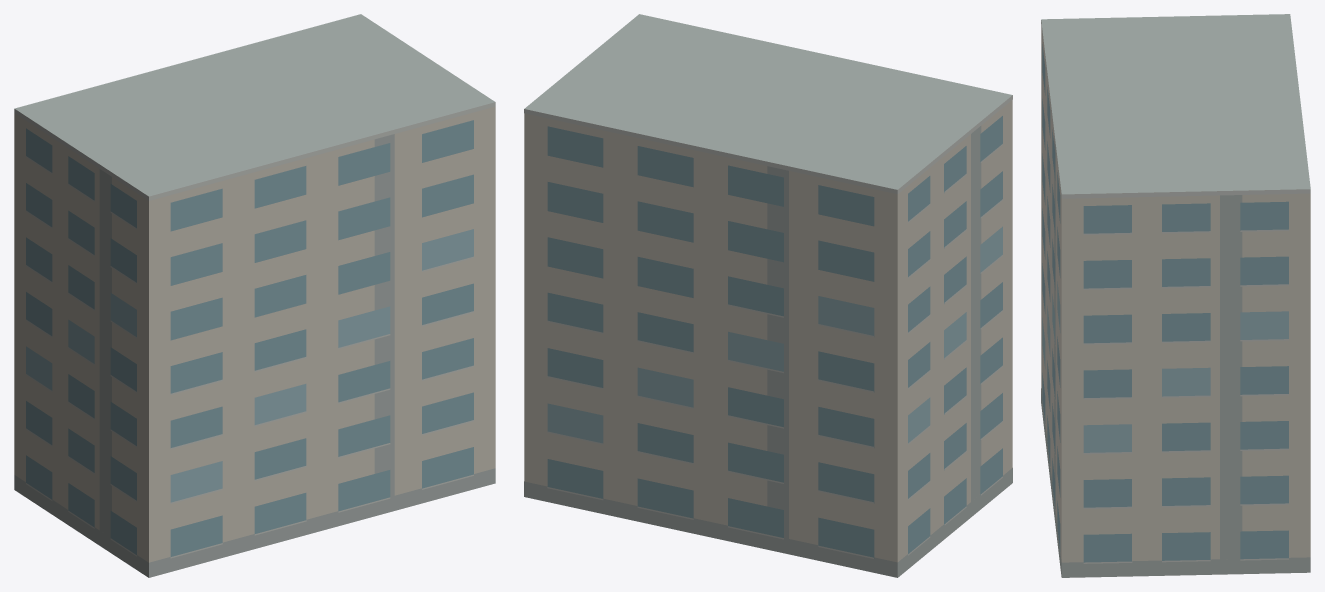
The model's file is residential-9a9d0e07-27b5-4e09-b389-5d8050eaed3b.glb.
3 renders of one model, left to right at view 1: azimuth 30°, elevation 25°; view 2: azimuth 150°, elevation 25°; view 3: azimuth 270°, elevation 25°, orthographic.
Visible parts, largest first — view 1: residential-9a9d0e07-27b5-4e09-b389-5d8050eaed3b.tmp; view 2: residential-9a9d0e07-27b5-4e09-b389-5d8050eaed3b.tmp; view 3: residential-9a9d0e07-27b5-4e09-b389-5d8050eaed3b.tmp.
Boxes of the visible parts, x1,y1,x2,y2 form: residential-9a9d0e07-27b5-4e09-b389-5d8050eaed3b.tmp: (14, 14, 495, 577); residential-9a9d0e07-27b5-4e09-b389-5d8050eaed3b.tmp: (524, 14, 1012, 577); residential-9a9d0e07-27b5-4e09-b389-5d8050eaed3b.tmp: (1041, 14, 1310, 577).
Bounding box in the file's own units: 21.55 × 21.35 × 13.62.
